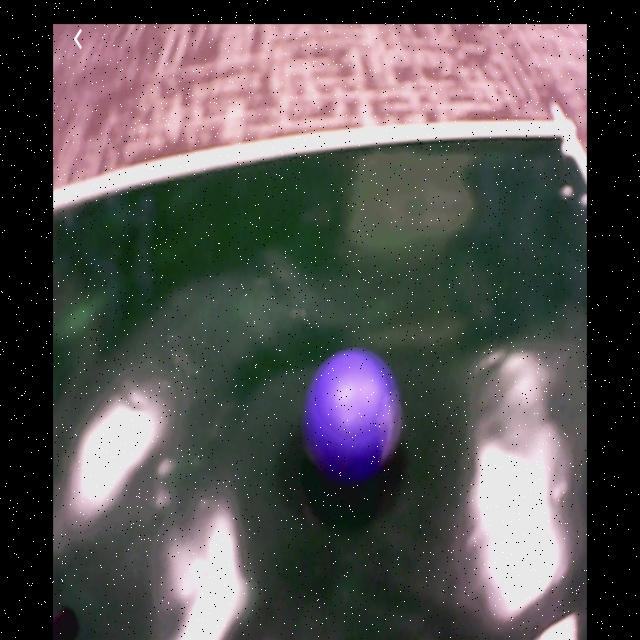ball: (307, 347, 400, 478)
